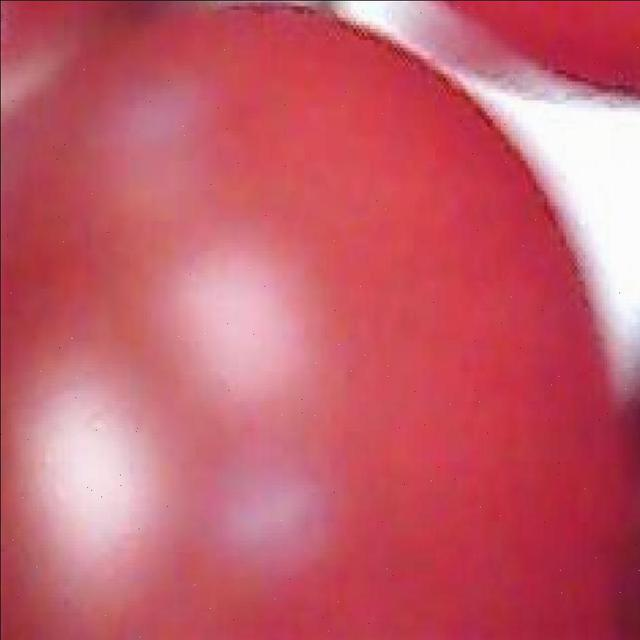Healthy Fruit: (3, 1, 425, 427)
